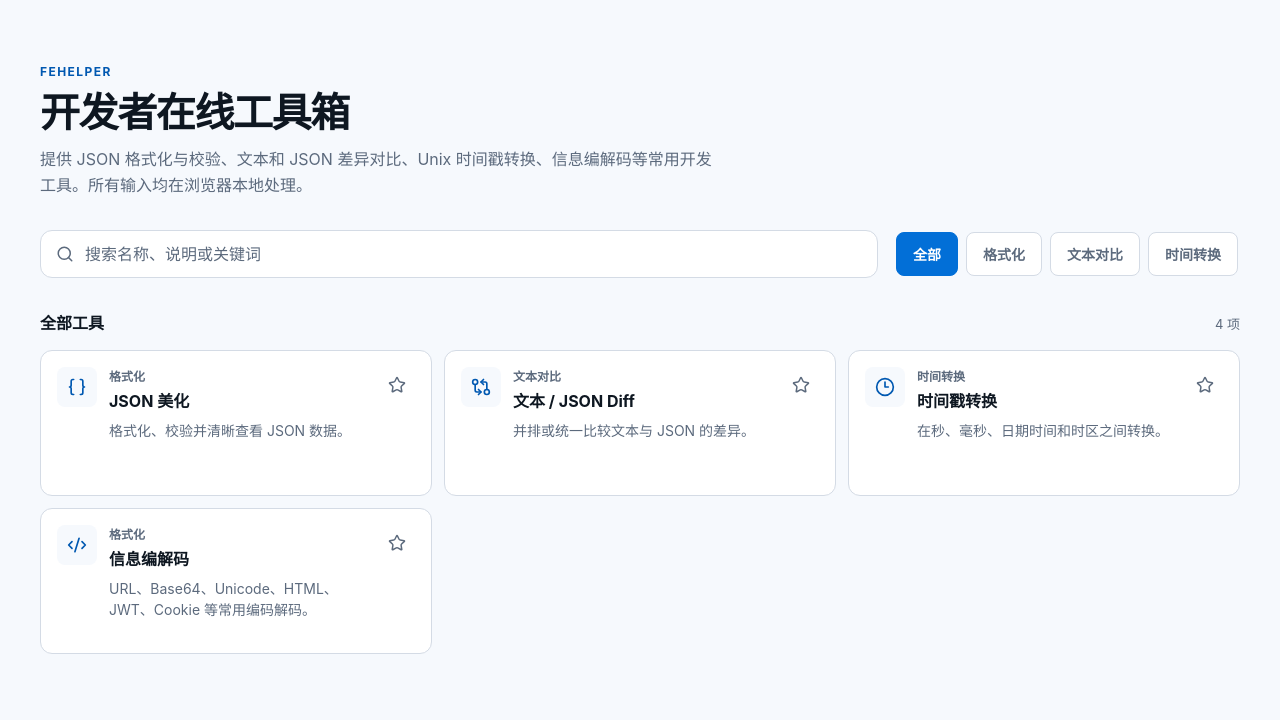
Test: combines category and search and supports favorites
Click the button "文本对比" at [1095, 254], box [1050,232,1140,276]
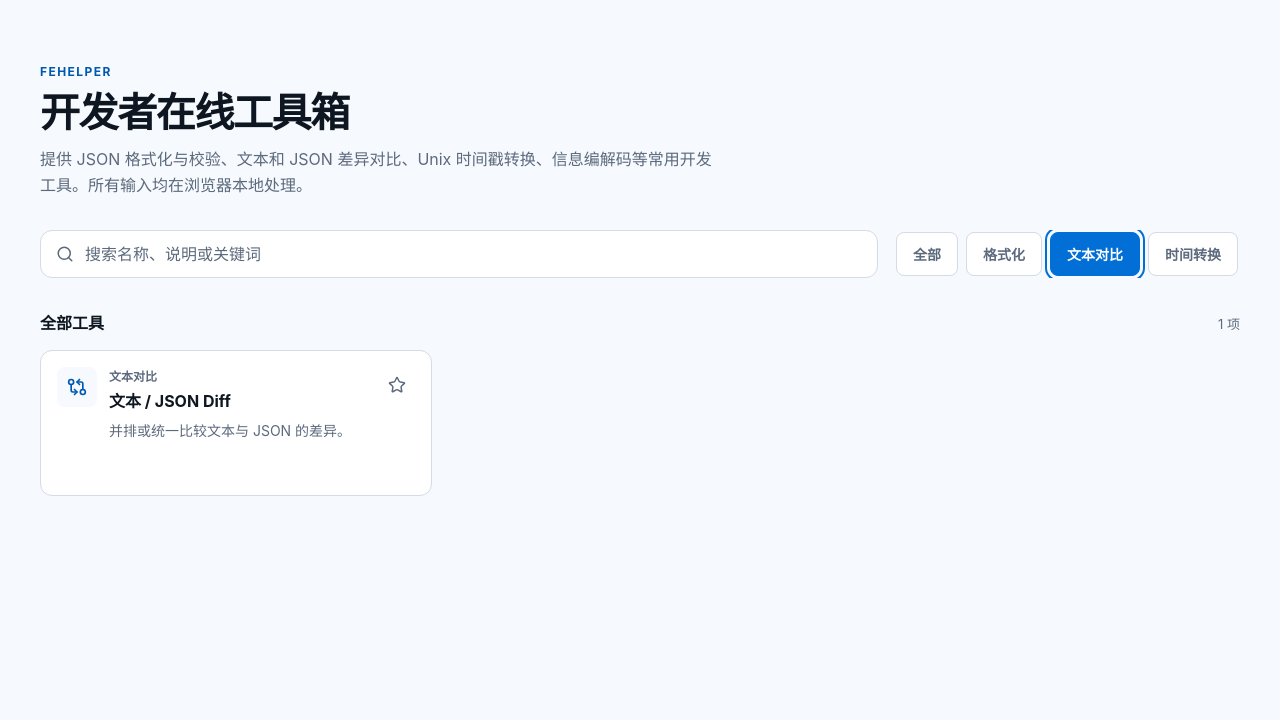
Type "JSON" into the search field at [459, 254], box [40,230,878,278]
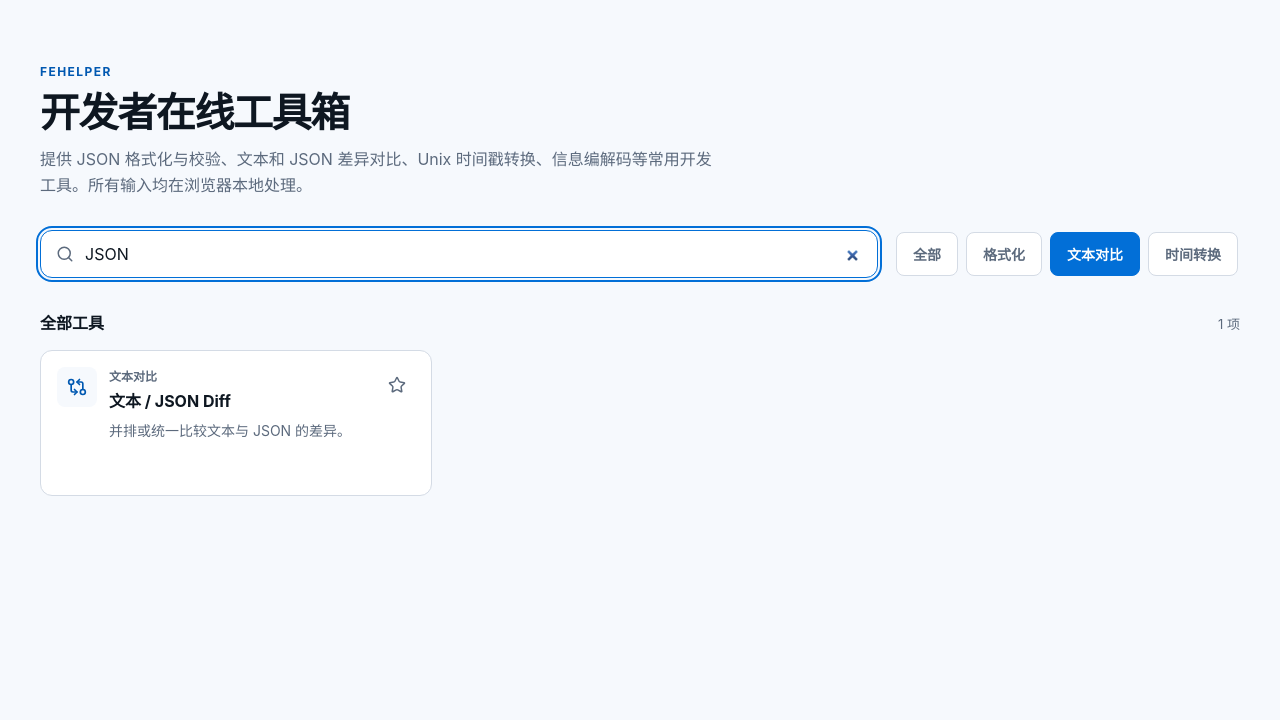
Expected: the link "文本对比 文本 / JSON Diff 并排或统一比较文本与 JSON 的差异。" is shown, [57,367,351,439]
Expected: the link "JSON 美化" is not shown
Click the button named "收藏 文本 / JSON Diff" at [397, 385], box [375,363,419,407]
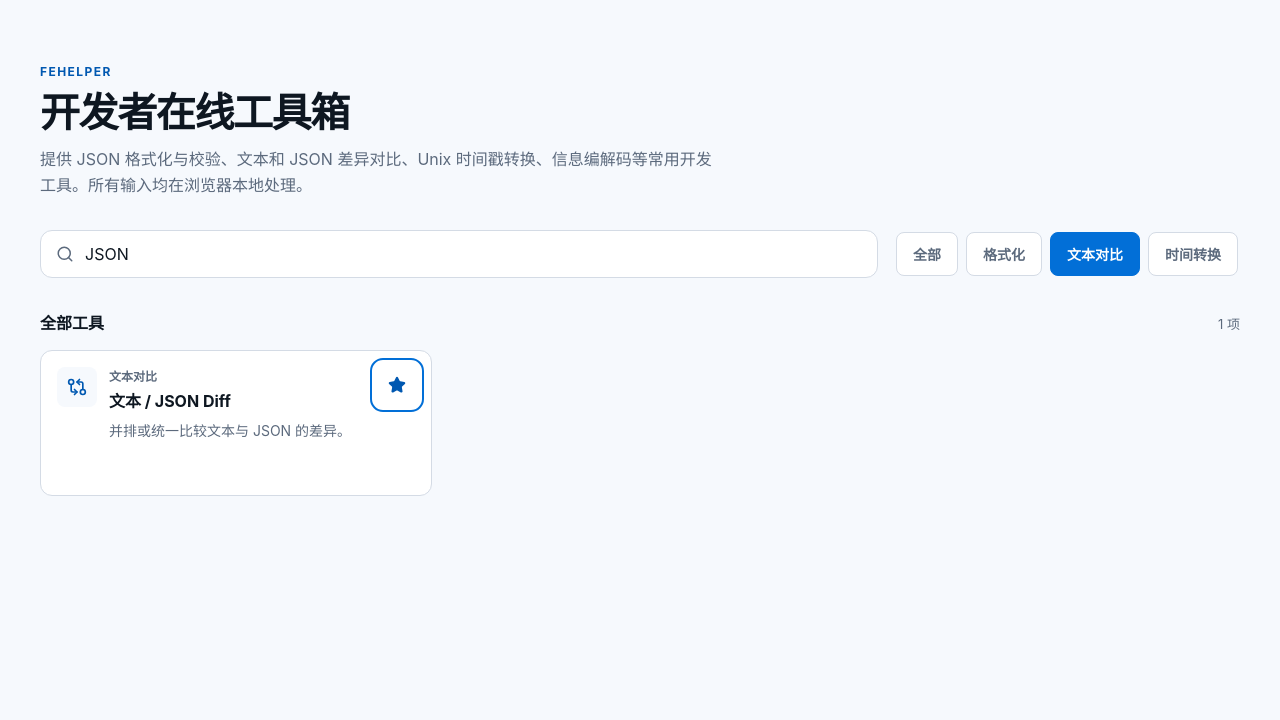
Now the button named "取消收藏 文本 / JSON Diff" is shown, box [375,363,419,407]
